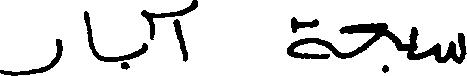X: (173, 0, 334, 66), (341, 18, 386, 75), (0, 34, 62, 75), (437, 28, 466, 68), (84, 6, 96, 62), (139, 5, 147, 60), (410, 22, 416, 64)
